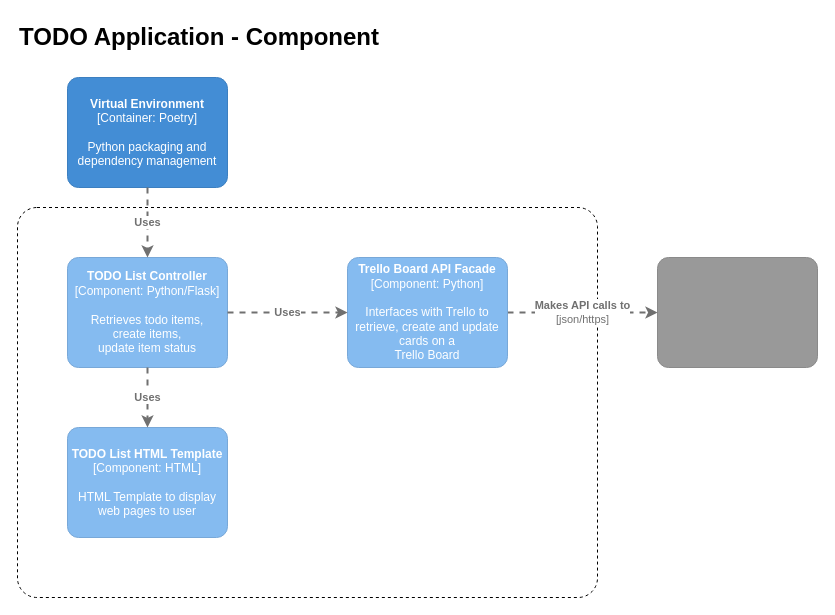
This 835x615 diagram has some shape labels left out. Each missing label, with the box of its shape:
Flask Web Application [Python]: (16, 206, 598, 598)
Trello [Software System] External list making application: (656, 256, 818, 368)
